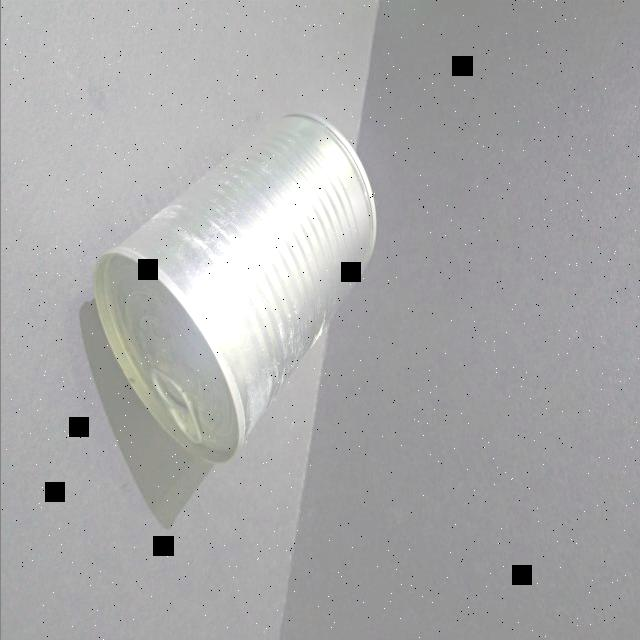can: (87, 108, 386, 470)
